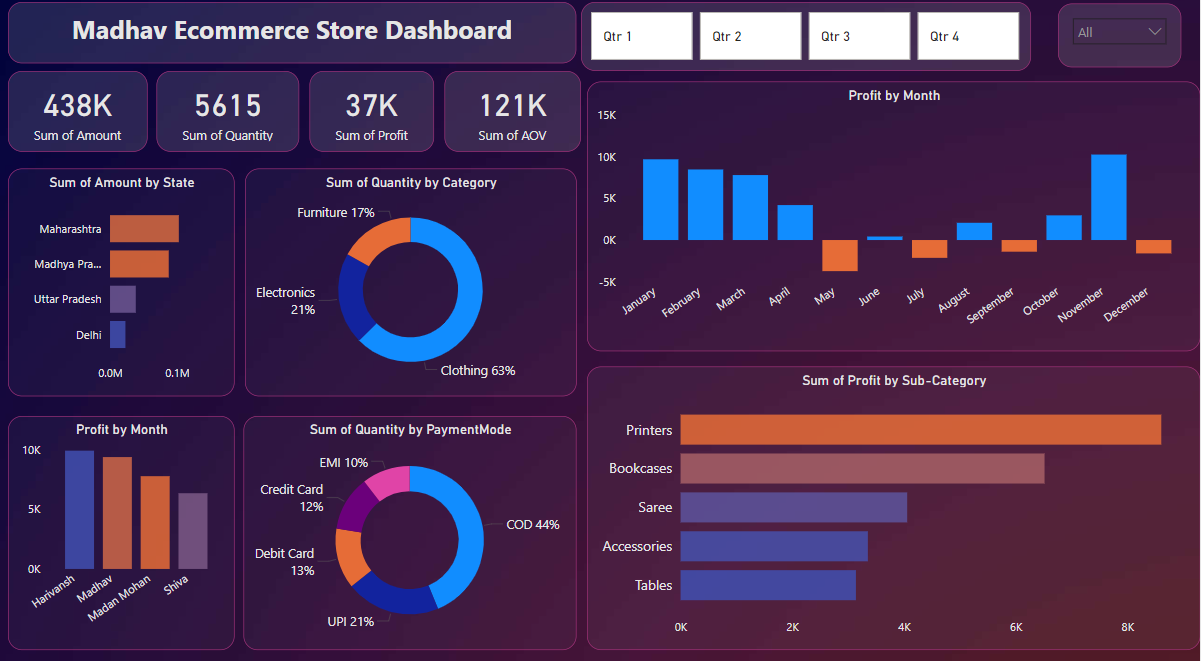

Layout of this report page (visuals, bound fields, positions):
{"tool":"powerbi","page":{"name":"Page 1","canvas":[1280,720],"ordinal":0},"visuals":[{"type":"textbox","box":[9.6,9.6,605.5,65.5],"z":0},{"type":"columnChart","title":" Profit by Month","fields":{"Y":["Details.Profit"],"Category":["Orders (2).Order Date.Variation.Date Hierarchy.Month"]},"box":[626.3,94.3,653.4,287.6],"z":1000},{"type":"barChart","fields":{"Y":["Details.Profit"],"Category":["Details.Sub-Category"]},"box":[626.3,397.8,653.4,302],"z":2000},{"type":"donutChart","fields":{"Category":["Details.PaymentMode"],"Y":["Details.Quantity"]},"box":[260.4,450.5,354.7,249.2],"z":3000},{"type":"donutChart","fields":{"Category":["Details.Category"],"Y":["Details.Quantity"]},"box":[262,186.9,353.1,242.8],"z":4000},{"type":"card","fields":{"Values":["Details.Amount"]},"box":[9.6,83.1,148.6,86.3],"z":5000},{"type":"card","fields":{"Values":["Details.Quantity"]},"box":[167.8,83.1,151.8,86.3],"z":6000},{"type":"card","fields":{"Values":["Details.Profit"]},"box":[330.7,83.1,132.6,86.3],"z":7000},{"type":"card","fields":{"Values":["Details.AOV"]},"box":[474.5,83.1,145,86],"z":8000},{"type":"barChart","fields":{"Y":["Details.Amount"],"Category":["Orders (2).State"]},"box":[9.6,186.9,241.2,242.8],"z":9000},{"type":"columnChart","title":" Profit by Month","fields":{"Category":["Orders (2).CustomerName"],"Y":["Details.Amount"]},"box":[9.6,450.5,241.2,249.2],"z":10000},{"type":"advancedSlicerVisual","fields":{"Values":["Orders (2).Order Date.Variation.Date Hierarchy.Quarter"]},"box":[619.9,9.6,479.3,73.5],"z":11000},{"type":"slicer","fields":{"Values":["Orders (2).State"]},"box":[1128,11.2,131,68],"z":11001}]}

Visuals, with their boxes in screenshot pixels (x1, y1, x2, y2), scaled from the page's 1280x720 canvas onto the 1201x661 screenshot:
textbox: left=9, top=9, right=577, bottom=69
" Profit by Month" columnChart: left=588, top=87, right=1200, bottom=351
barChart - Details.Profit x Details.Sub-Category: left=588, top=365, right=1200, bottom=642
donutChart - Details.PaymentMode x Details.Quantity: left=244, top=414, right=577, bottom=642
donutChart - Details.Category x Details.Quantity: left=246, top=172, right=577, bottom=394
card - Details.Amount: left=9, top=76, right=148, bottom=156
card - Details.Quantity: left=157, top=76, right=300, bottom=156
card - Details.Profit: left=310, top=76, right=435, bottom=156
card - Details.AOV: left=445, top=76, right=581, bottom=155
barChart - Details.Amount x Orders (2).State: left=9, top=172, right=235, bottom=394
" Profit by Month" columnChart: left=9, top=414, right=235, bottom=642
advancedSlicerVisual - Orders (2).Order Date.Variation.Date Hierarchy.Quarter: left=582, top=9, right=1031, bottom=76
slicer - Orders (2).State: left=1058, top=10, right=1181, bottom=73
